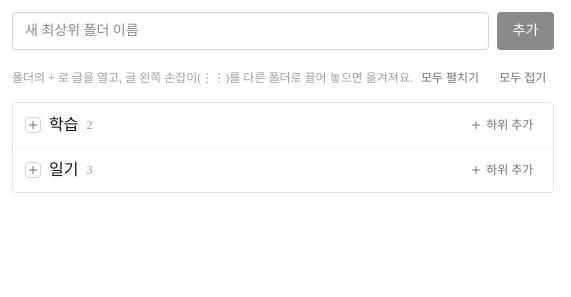
Test: PostMover (글 이동 탭) › 폴더 추가 › 같은 부모 아래 형제와 하위 폴더 이름이 겹치면 그 입력줄 아래에서 안내하고 요청하지 않는다
The image size is (571, 297).
Click the button with aria-label "학습의 하위 폴더 추가" at (502, 125), box [462, 113, 541, 137]
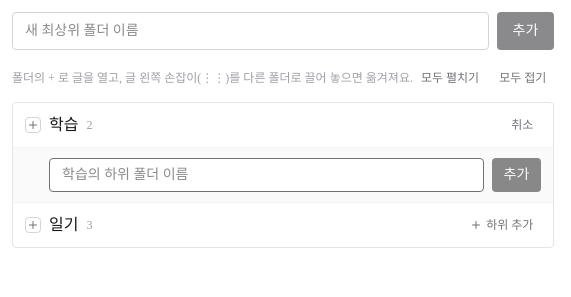
Type "백엔드" into the field labelled "하위 폴더 이름" at (266, 175), box [49, 158, 484, 192]
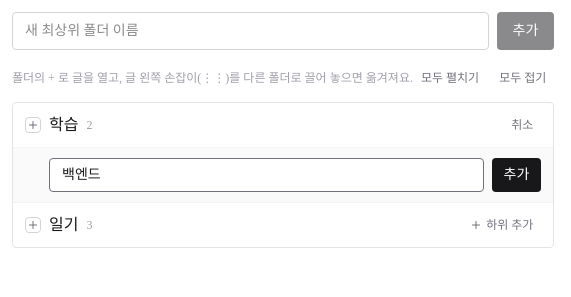
Click the 2nd button "추가" at (516, 175), box [492, 158, 541, 192]
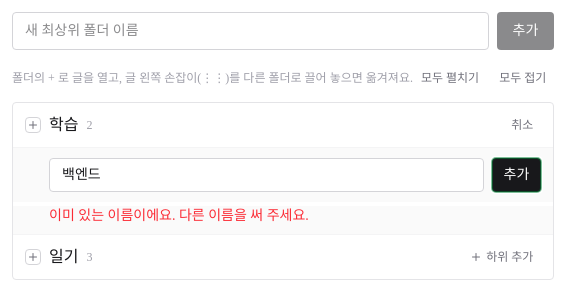
Check: the message shows "이미 있는 이름", box [49, 208, 309, 223]
